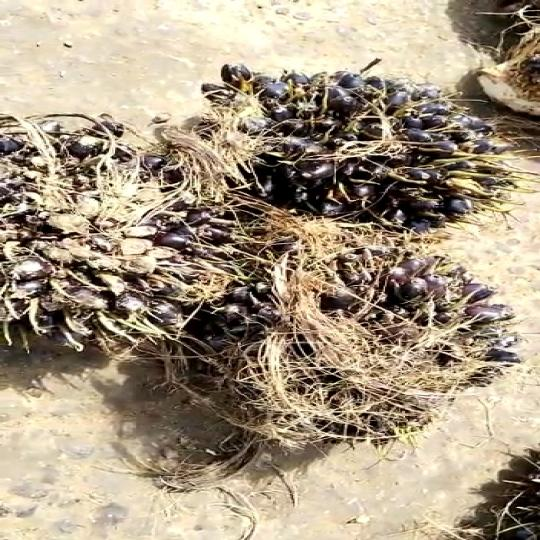mentah: (184, 234, 526, 460), (0, 100, 268, 348), (181, 55, 540, 216)
